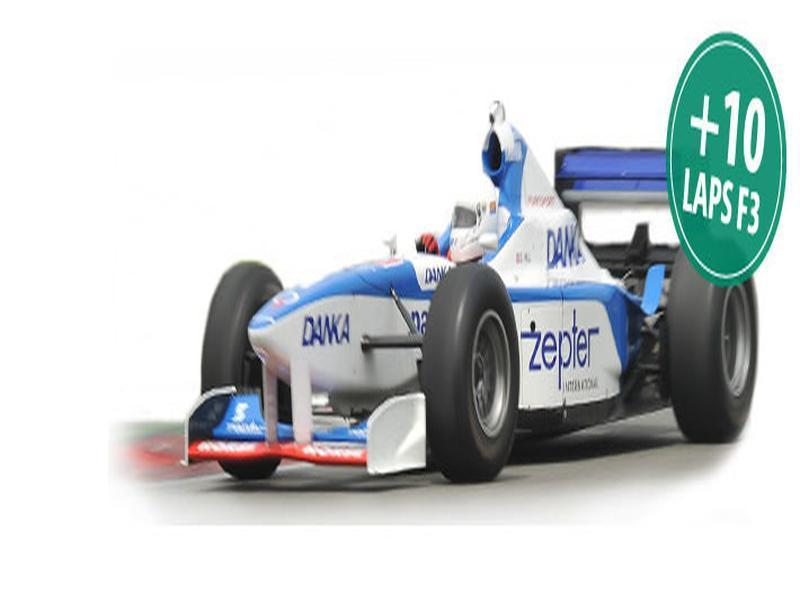f1: (143, 137, 800, 490)
